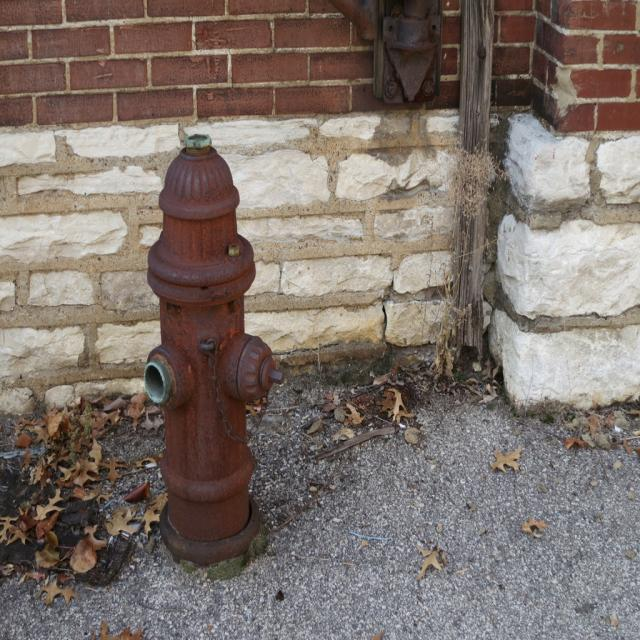fire_hydrant: (142, 134, 286, 563)
